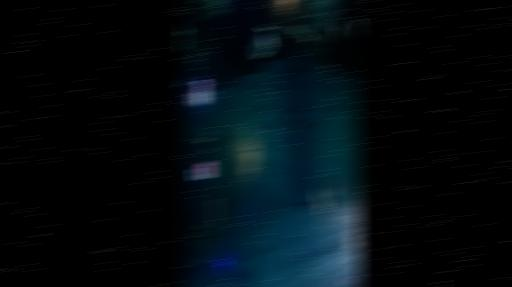Fish: (254, 26, 273, 58), (289, 25, 312, 42), (314, 188, 327, 215), (326, 176, 339, 196), (320, 207, 333, 227), (276, 247, 287, 266), (288, 237, 296, 255), (270, 124, 283, 133), (354, 19, 360, 37), (291, 120, 297, 134), (334, 26, 340, 40), (262, 103, 271, 111), (296, 201, 317, 204), (265, 118, 274, 124), (259, 123, 266, 130), (254, 121, 260, 128), (252, 133, 259, 139), (260, 227, 266, 234), (268, 224, 275, 230), (276, 140, 283, 145), (266, 240, 273, 245), (250, 114, 261, 117), (265, 239, 271, 244), (296, 224, 303, 228), (265, 227, 271, 231), (306, 280, 309, 286), (250, 117, 256, 120), (259, 231, 262, 236), (264, 103, 267, 107)
